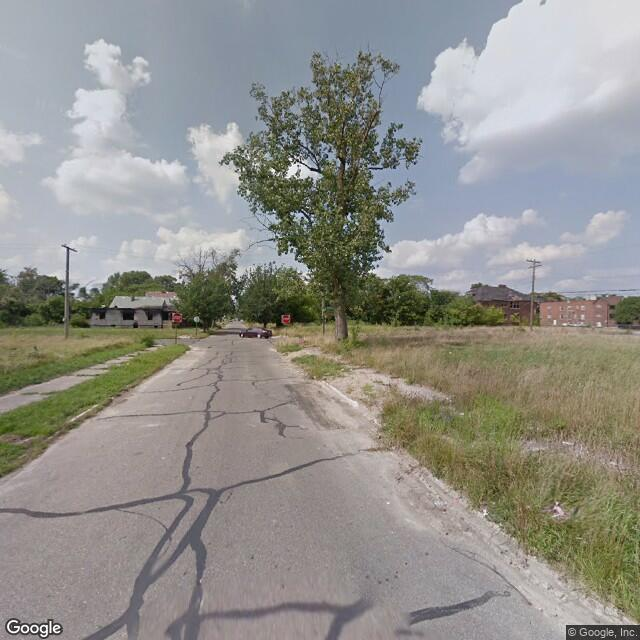litter: (552, 502, 563, 517), (458, 406, 469, 417), (482, 507, 488, 517), (384, 497, 390, 505)
